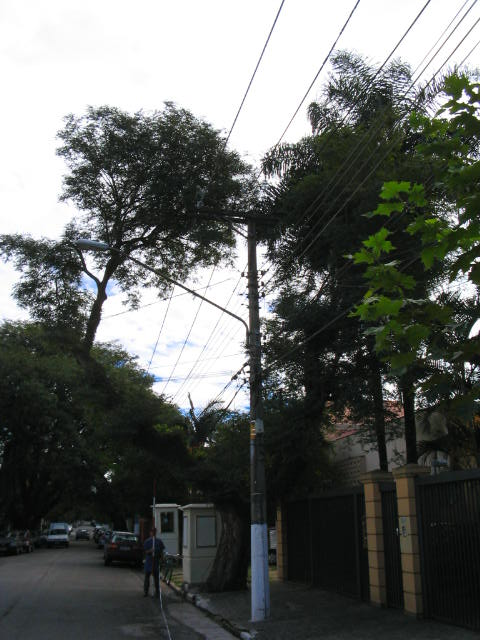stem: (195, 509, 274, 595)
stick: (146, 476, 159, 596)
tree: (4, 98, 454, 593)
